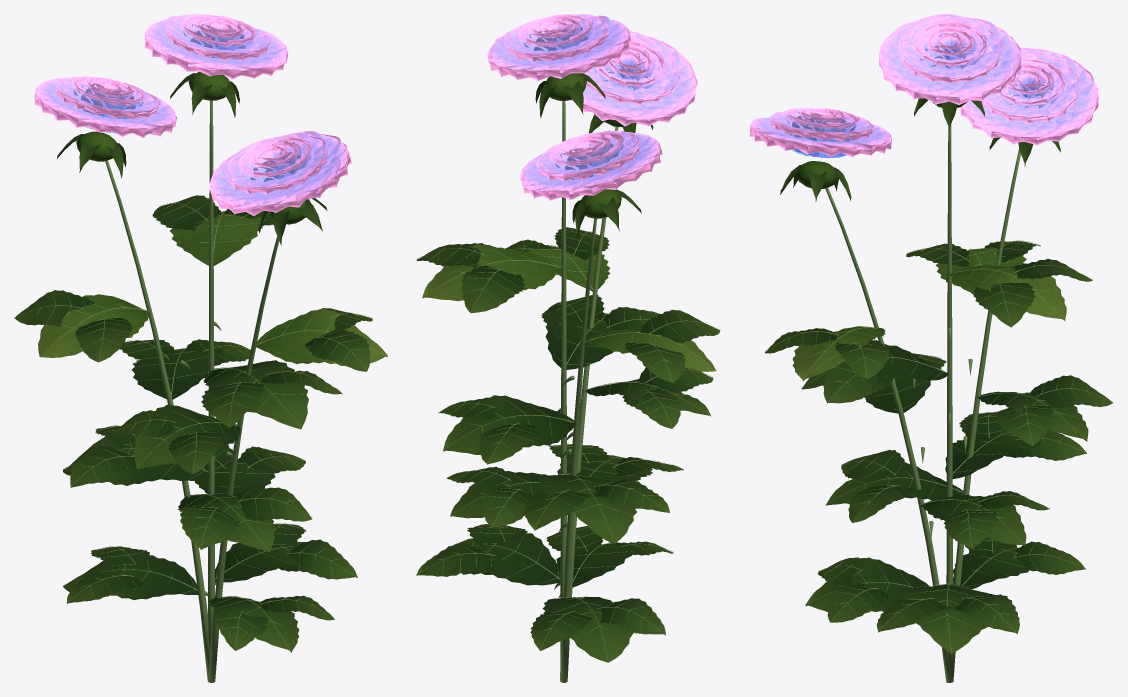
File: rose-dream-10.glb
3 views of the same model, side by side, from view 1: azimuth 30°, elevation 25°; view 2: azimuth 150°, elevation 25°; view 3: azimuth 270°, elevation 25° (orthographic).
Visible parts, largest first — view 1: rose_dream_stage_10_leaf_veins.020, rose_dream_stage_10_rose_petal.020, rose_dream_stage_10_young_leaf.020, rose_dream_stage_10_stem_fibres.020, rose_dream_stage_10_raised_midveins.020; view 2: rose_dream_stage_10_leaf_veins.020, rose_dream_stage_10_rose_petal.020, rose_dream_stage_10_young_leaf.020, rose_dream_stage_10_stem_fibres.020, rose_dream_stage_10_raised_midveins.020; view 3: rose_dream_stage_10_leaf_veins.020, rose_dream_stage_10_rose_petal.020, rose_dream_stage_10_stem_fibres.020, rose_dream_stage_10_young_leaf.020, rose_dream_stage_10_raised_midveins.020.
Boxes of the visible parts, x1=… form: rose_dream_stage_10_leaf_veins.020: x1=14, y1=71, x2=372, y2=652; rose_dream_stage_10_rose_petal.020: x1=34, y1=14, x2=351, y2=215; rose_dream_stage_10_young_leaf.020: x1=38, y1=72, x2=387, y2=365; rose_dream_stage_10_stem_fibres.020: x1=105, y1=100, x2=279, y2=682; rose_dream_stage_10_raised_midveins.020: x1=15, y1=197, x2=385, y2=650; rose_dream_stage_10_leaf_veins.020: x1=416, y1=73, x2=720, y2=662; rose_dream_stage_10_rose_petal.020: x1=487, y1=14, x2=697, y2=200; rose_dream_stage_10_young_leaf.020: x1=422, y1=73, x2=715, y2=371; rose_dream_stage_10_stem_fibres.020: x1=554, y1=101, x2=618, y2=682; rose_dream_stage_10_raised_midveins.020: x1=417, y1=228, x2=719, y2=660; rose_dream_stage_10_leaf_veins.020: x1=765, y1=98, x2=1112, y2=653; rose_dream_stage_10_rose_petal.020: x1=749, y1=14, x2=1098, y2=158; rose_dream_stage_10_stem_fibres.020: x1=825, y1=124, x2=1020, y2=682; rose_dream_stage_10_young_leaf.020: x1=792, y1=101, x2=1066, y2=380; rose_dream_stage_10_raised_midveins.020: x1=765, y1=240, x2=1112, y2=653.
Size of the model in its own units: 0.3539 by 0.7585 by 0.3856.
Materials: 5 (3 with a texture image).
